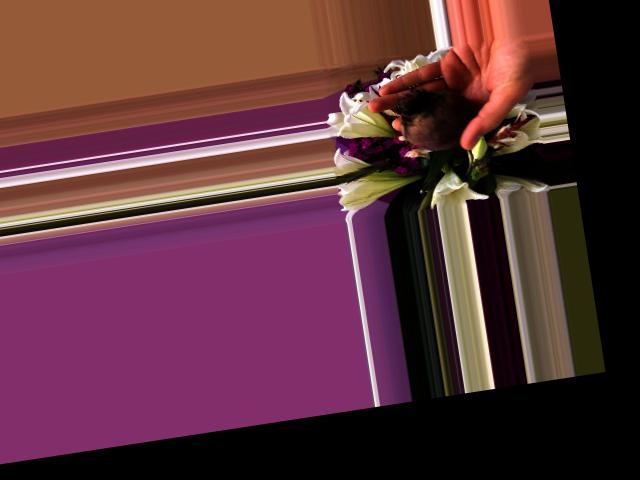beet: (393, 83, 485, 184)
